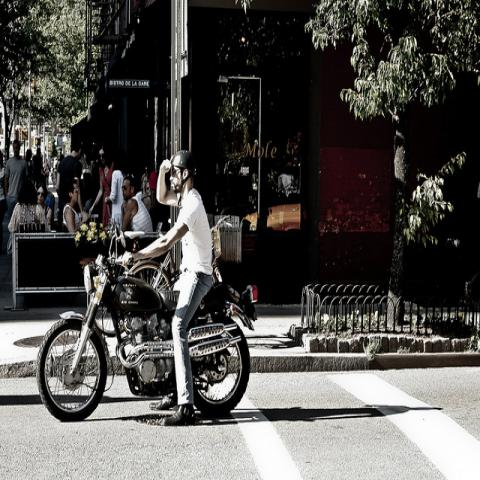motorcycle: (36, 214, 258, 422)
